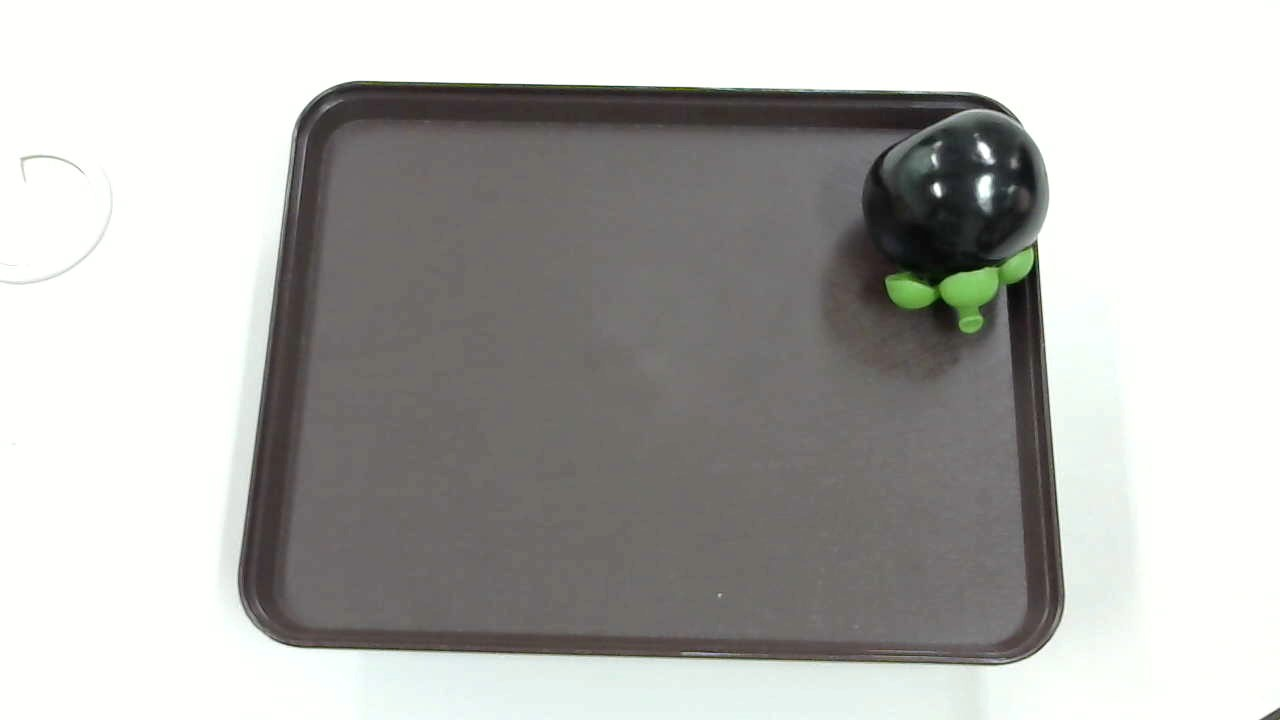mangosteen: (856, 98, 1064, 335)
